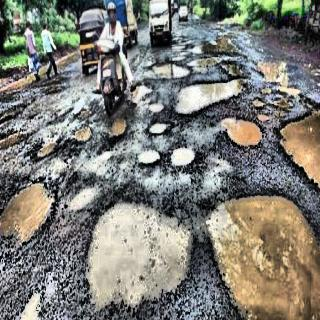pothole: (209, 192, 320, 320), (86, 193, 196, 309), (277, 93, 320, 192), (0, 174, 56, 242), (173, 73, 251, 119), (254, 54, 302, 96), (184, 31, 244, 59), (220, 114, 264, 150), (65, 181, 101, 214), (17, 285, 46, 320), (149, 57, 190, 81), (34, 135, 62, 161), (168, 142, 195, 168), (0, 126, 29, 150), (250, 95, 272, 125), (68, 122, 93, 147), (0, 103, 25, 128), (127, 84, 155, 105), (136, 146, 162, 168), (146, 118, 172, 138), (109, 115, 128, 138), (148, 101, 166, 114)
